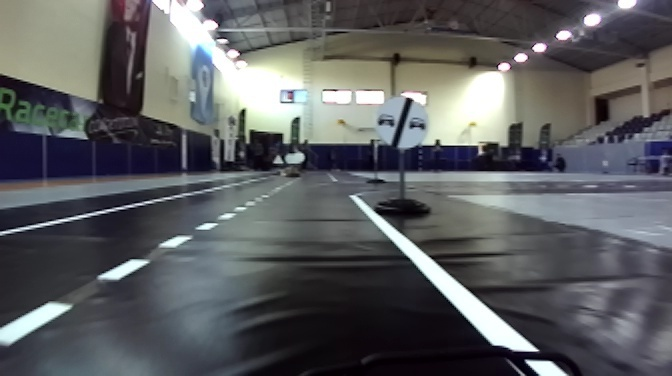sollama_serbest: (374, 95, 428, 149)
